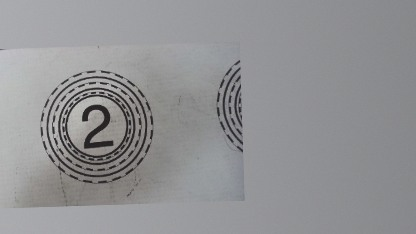2r: (36, 68, 157, 185)
